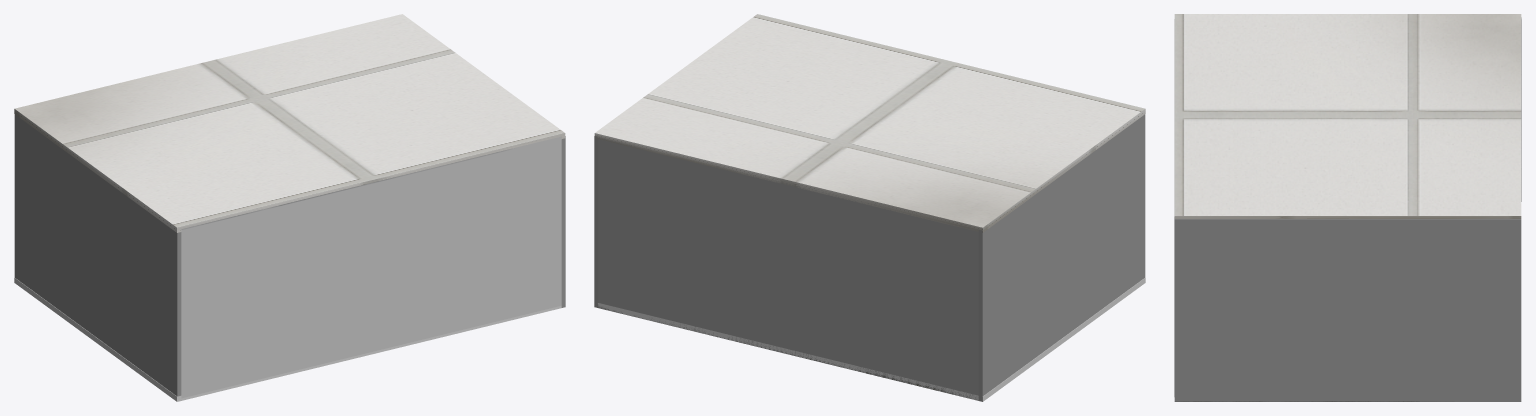
File: Aula_final.fbx
3 views of the same model, side by side, from view 1: azimuth 30°, elevation 25°; view 2: azimuth 150°, elevation 25°; view 3: azimuth 270°, elevation 25° (orthographic). The views are drawn at different scales.
Visible parts, largest first — view 1: Pared_02, Techo, Pared_03, Techo.001, Pared_04; view 2: Techo, Pared_01, Pared_03, Techo.001, Pared_04; view 3: Techo, Pared_04, Pared_02.
Part boxes in pixels (x1=…): Pared_02: x1=181, y1=136, x2=561, y2=398; Techo: x1=14, y1=14, x2=565, y2=232; Pared_03: x1=14, y1=114, x2=181, y2=396; Techo.001: x1=14, y1=277, x2=561, y2=401; Pared_04: x1=561, y1=136, x2=565, y2=307; Techo: x1=594, y1=14, x2=1145, y2=232; Pared_01: x1=598, y1=137, x2=978, y2=400; Pared_03: x1=978, y1=114, x2=1145, y2=401; Techo.001: x1=598, y1=277, x2=1145, y2=401; Pared_04: x1=594, y1=136, x2=598, y2=307; Techo: x1=1174, y1=14, x2=1521, y2=218; Pared_04: x1=1174, y1=219, x2=1521, y2=401; Pared_02: x1=1174, y1=19, x2=1174, y2=396.
Bounding box in the file's own units: 2344 × 1005 × 1700.
Materials: 5 (5 with a texture image).
